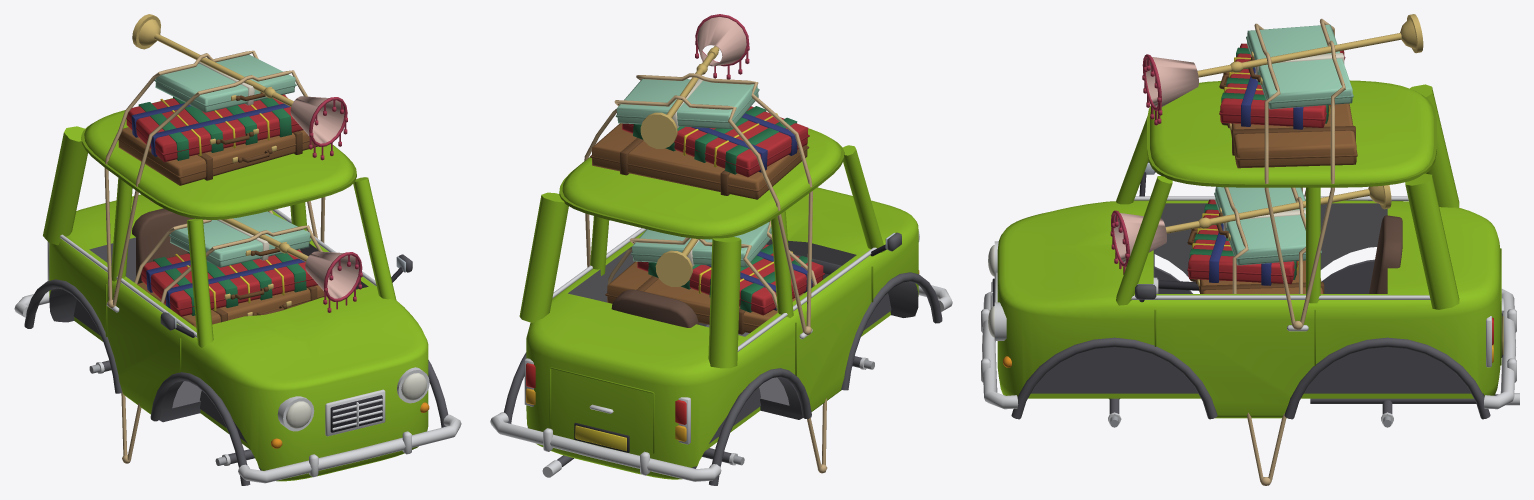
The model's file is minicar.glb.
The picture shows the model from 3 angles, left to right: view 1: azimuth 30°, elevation 25°; view 2: azimuth 150°, elevation 25°; view 3: azimuth 270°, elevation 25°; orthographic projection. The views are drawn at different scales.
Visible parts, largest first — view 1: minicar, minicar_sig, minicar_wreck; view 2: minicar, minicar_sig, minicar_wreck; view 3: minicar, minicar_wreck, minicar_sig.
Boxes of the visible parts, x1,y1,x2,y2 form: minicar: [14, 14, 456, 485]; minicar_sig: [121, 200, 362, 463]; minicar_wreck: [19, 281, 461, 485]; minicar: [491, 14, 952, 485]; minicar_sig: [605, 220, 827, 473]; minicar_wreck: [490, 274, 945, 485]; minicar: [981, 14, 1519, 422]; minicar_wreck: [981, 243, 1519, 427]; minicar_sig: [1110, 185, 1391, 485].
Size of the model in its own units: 1.57 by 2.3 by 2.76.
